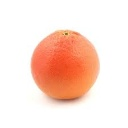orange: (30, 29, 102, 102)
